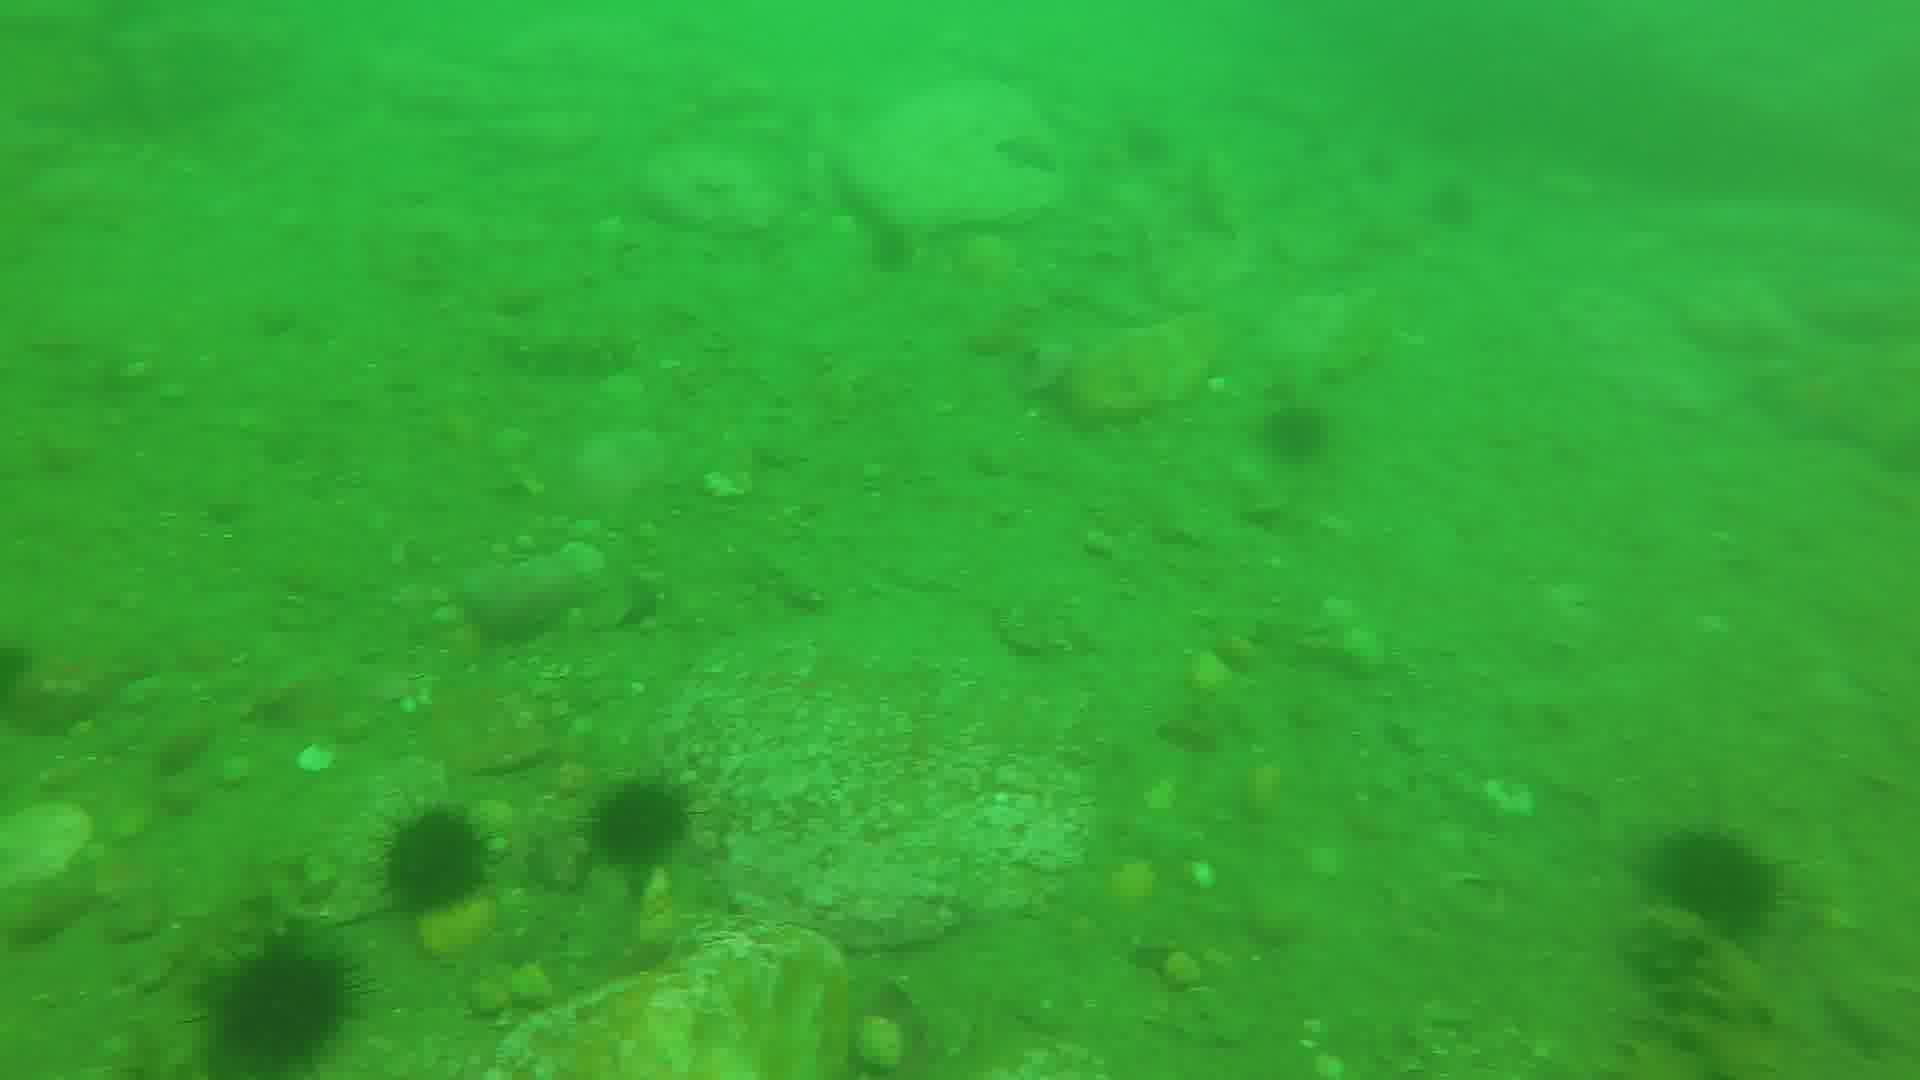echinus: (208, 936, 349, 1080), (1662, 823, 1788, 936), (382, 808, 489, 909), (596, 779, 698, 861), (1269, 401, 1337, 473)
holothurian: (1625, 906, 1768, 1080)
